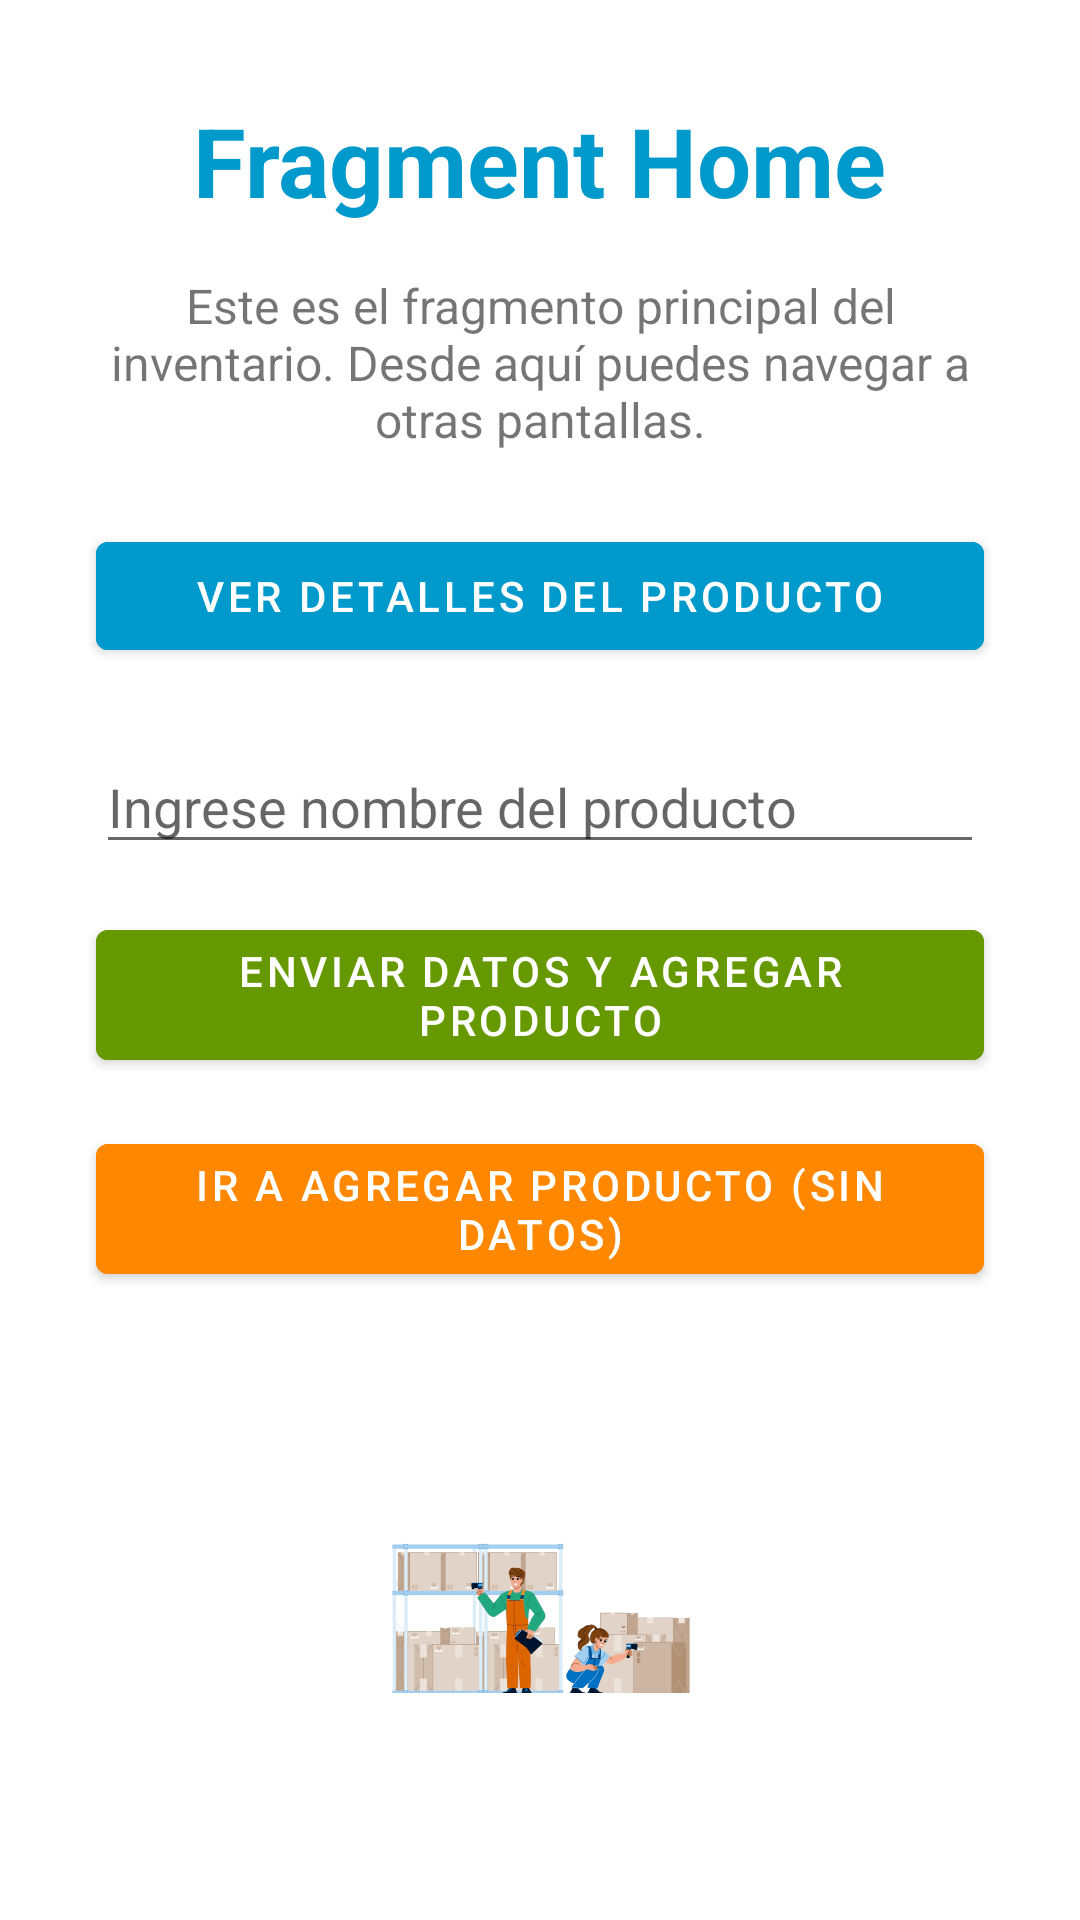

Locate icon controls on the screen. Image size 1080 x 1920, boxes as (x1, y1, x2, y2).
inventory: (392, 1544, 690, 1693)
